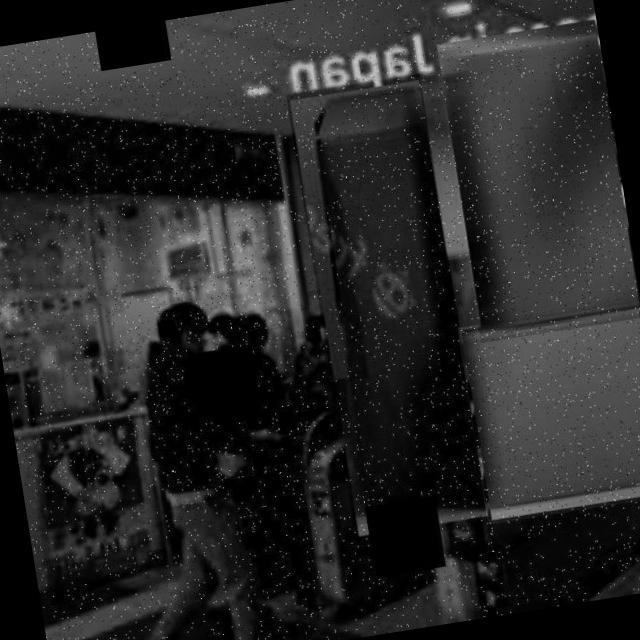box: (286, 73, 491, 544), (433, 14, 640, 342), (457, 299, 640, 525)
